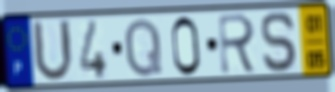0: (170, 14, 202, 77)
4: (78, 18, 109, 81)
Q: (123, 15, 164, 80)
R: (217, 11, 259, 76)
S: (259, 10, 300, 75)
U: (30, 18, 75, 85)
